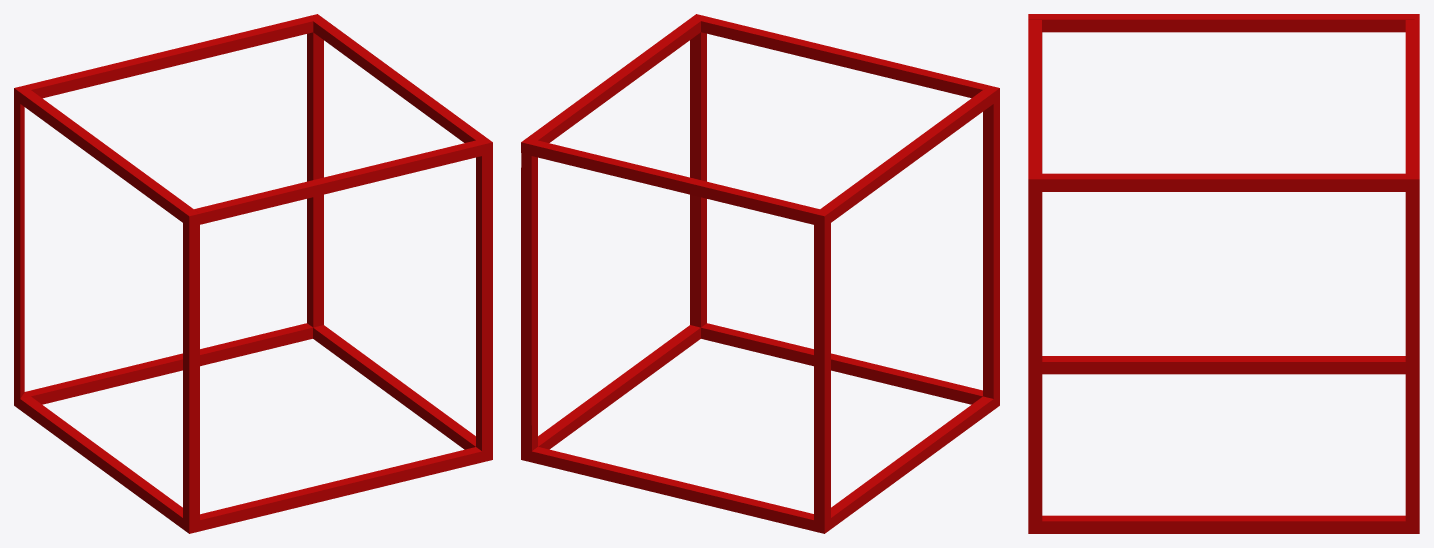
3 views of the same model, side by side, from view 1: azimuth 30°, elevation 25°; view 2: azimuth 150°, elevation 25°; view 3: azimuth 270°, elevation 25° (orthographic). The views are drawn at different scales.
Visible parts, largest first — view 1: Cube; view 2: Cube; view 3: Cube.
Part boxes in pixels (x1,y1,x2,y2): Cube: [14, 14, 492, 533]; Cube: [521, 14, 999, 533]; Cube: [1028, 14, 1419, 533].
Size of the model in its own units: 1 by 1 by 1.
